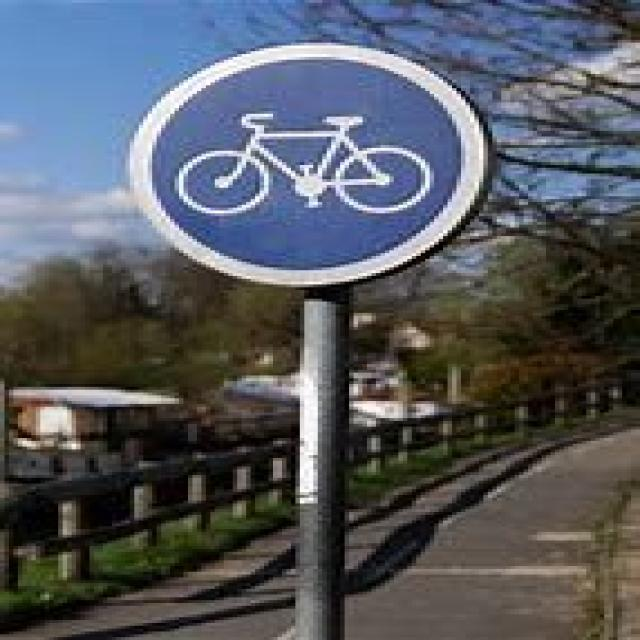COMPULSARY_CYCLE_TRACK: (134, 49, 497, 281)
